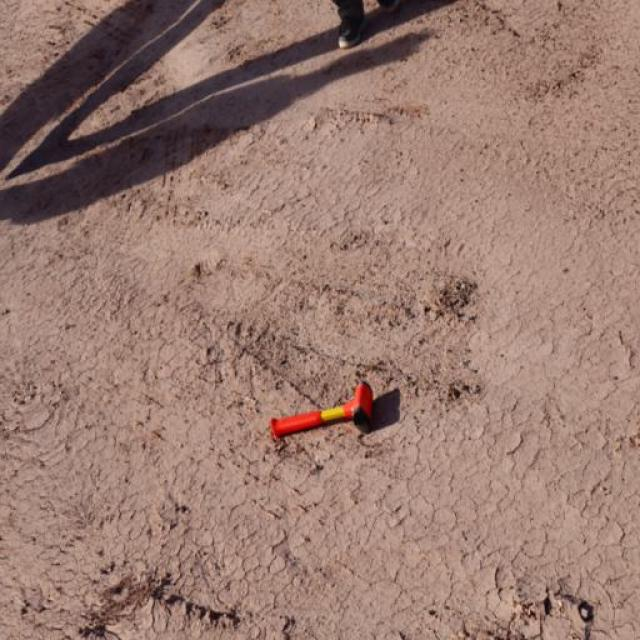mallet: (267, 380, 373, 441)
